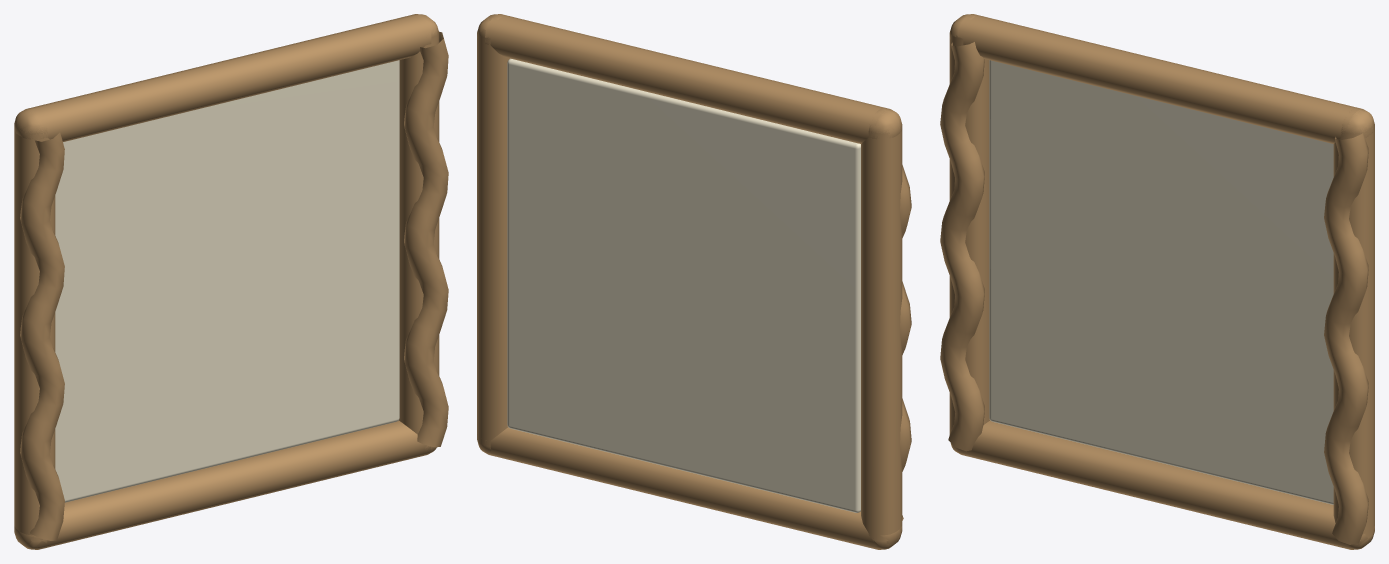
File: botanic-frame.glb
3 renders of one model, left to right at view 1: azimuth 30°, elevation 25°; view 2: azimuth 150°, elevation 25°; view 3: azimuth 330°, elevation 25°, orthographic.
Parts seen in each view (by area): view 1: Side moulding.012; view 2: Side moulding.012; view 3: Side moulding.012.
Part boxes in pixels (left/top/right/bottom): Side moulding.012: left=14, top=14, right=448, bottom=549; Side moulding.012: left=477, top=14, right=911, bottom=549; Side moulding.012: left=940, top=14, right=1374, bottom=549.
Size of the model in its own units: 1.11 by 1.09 by 0.115.
